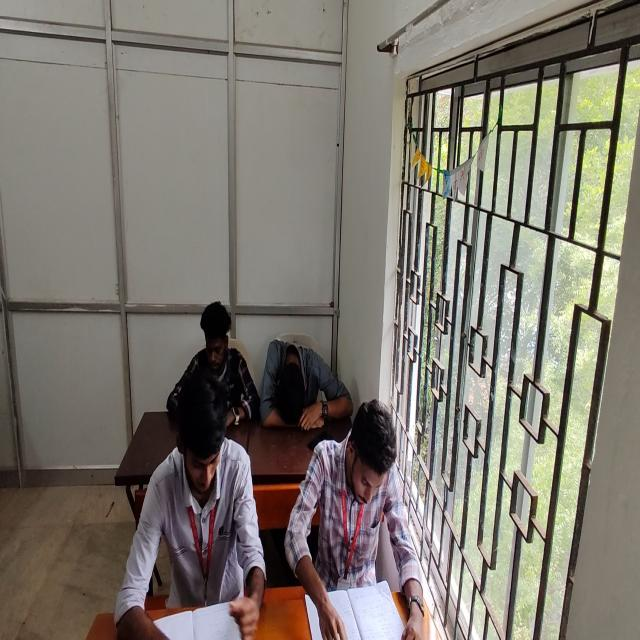reading: (114, 368, 266, 640), (281, 400, 405, 640)
sleeping: (260, 338, 350, 430)
using_mobile: (167, 298, 261, 430)
